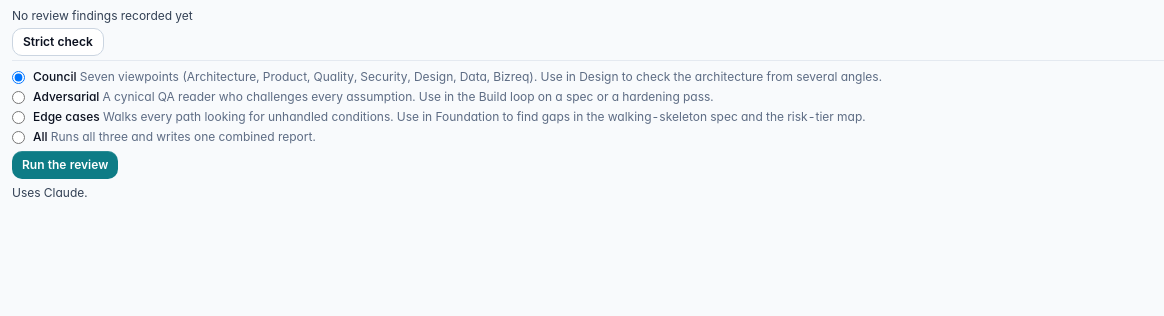
Test: ReviewStandingPanel: the run › shows progress with Cancel, and a cancelled run keeps nothing
expect the text "No review findings recorded yet" is shown: met, box [12, 8, 193, 23]
Click the button "Run the review". click: (65, 165)
box: [12, 151, 118, 179]
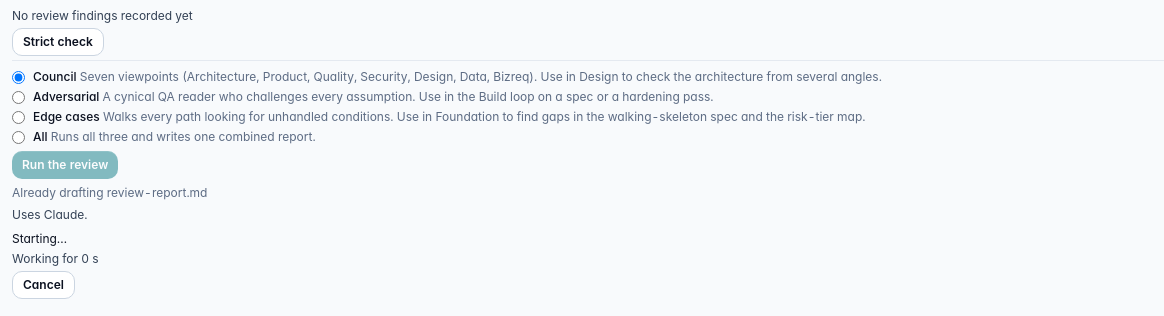
expect the element with test id "draft-running" is shown: met, box [12, 231, 99, 299]
expect the button "Run the review" is disabled: met, box [12, 151, 118, 179]
Click the button with test id "draft-cancel". click: (43, 285)
box: [12, 271, 75, 299]
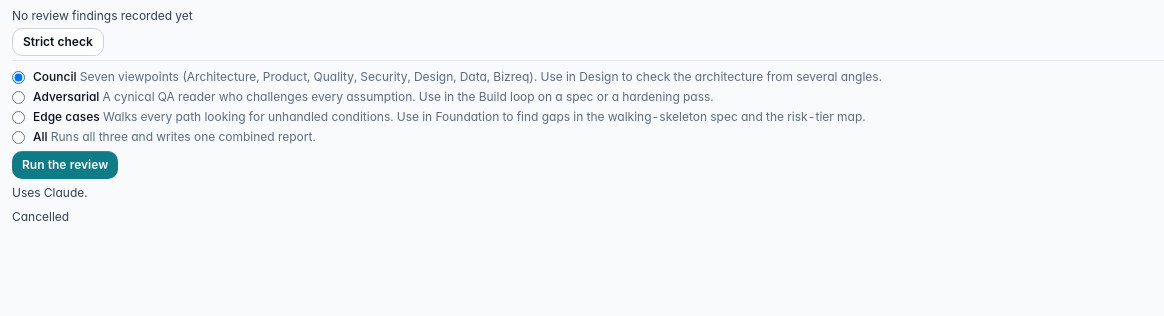
expect the text "Cancelled" is shown: met, box [12, 209, 69, 224]
expect the button "Run the review" is enabled: met, box [12, 151, 118, 179]
